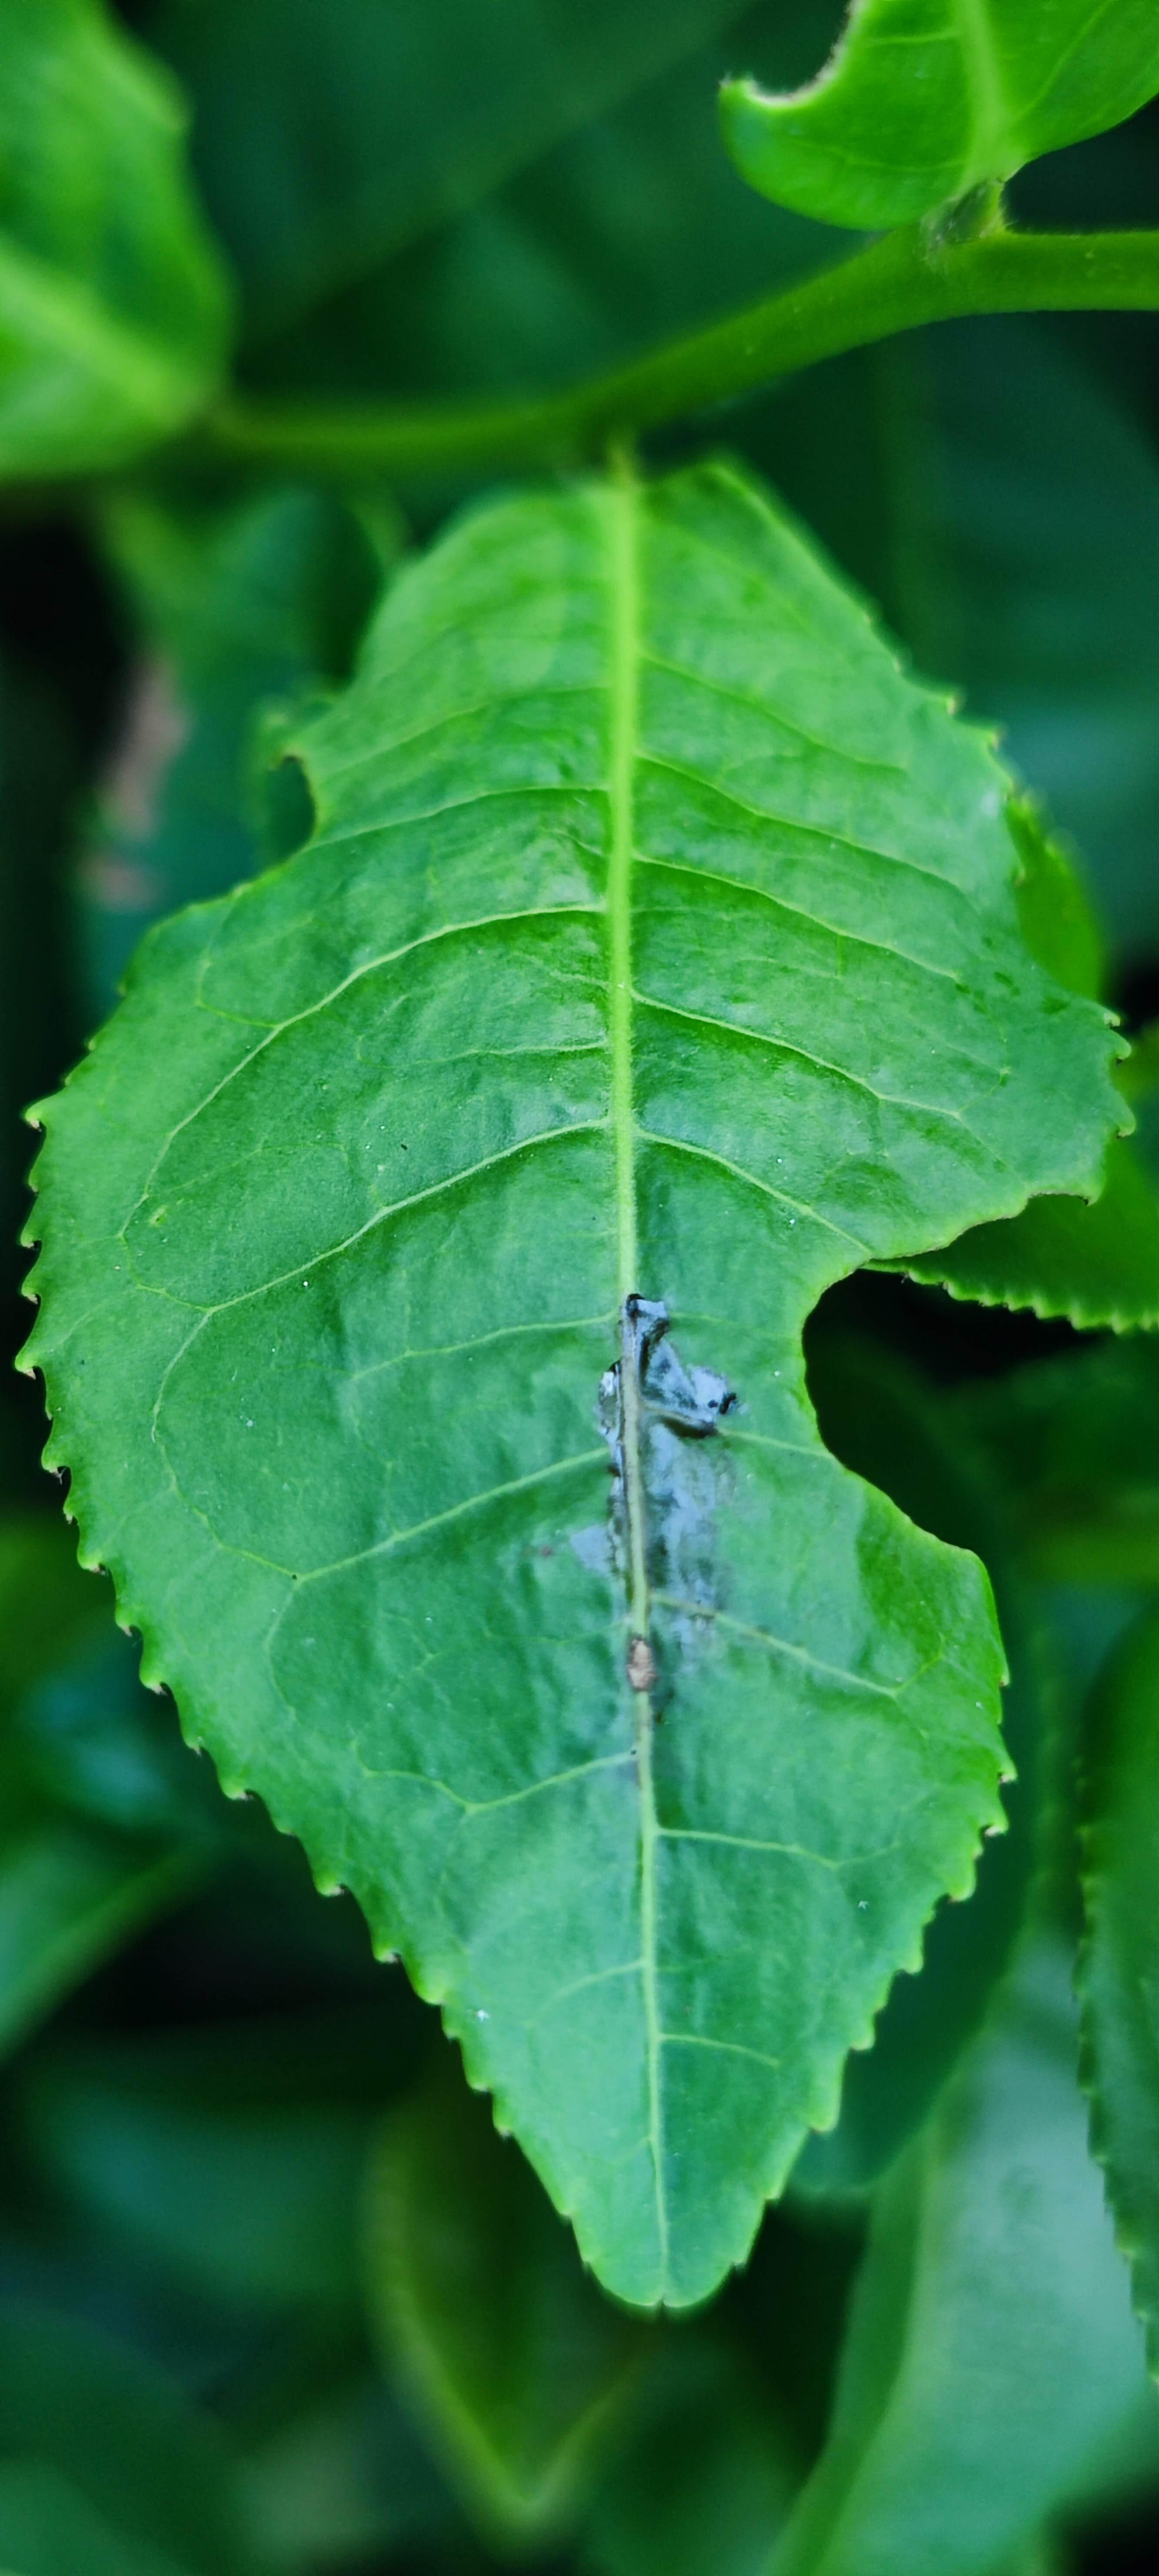chihuo_high: (16, 460, 1136, 2321)
